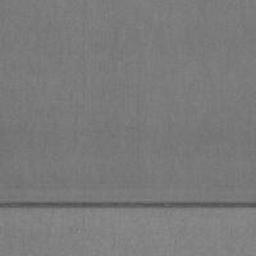Welding line: (0, 200, 256, 210)
